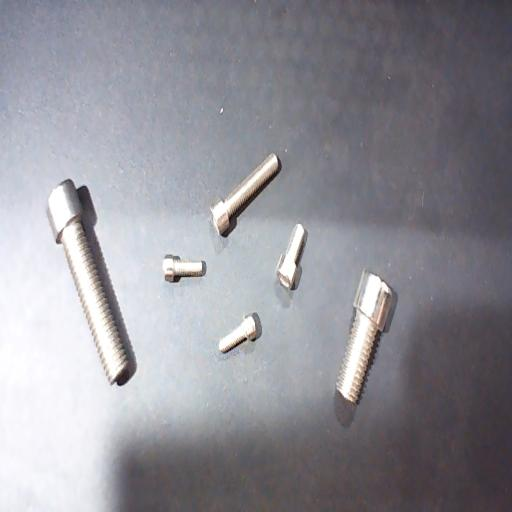screw: (46, 178, 137, 386), (334, 268, 398, 430), (210, 152, 282, 237), (276, 222, 308, 290), (218, 312, 262, 354), (163, 255, 206, 283)
